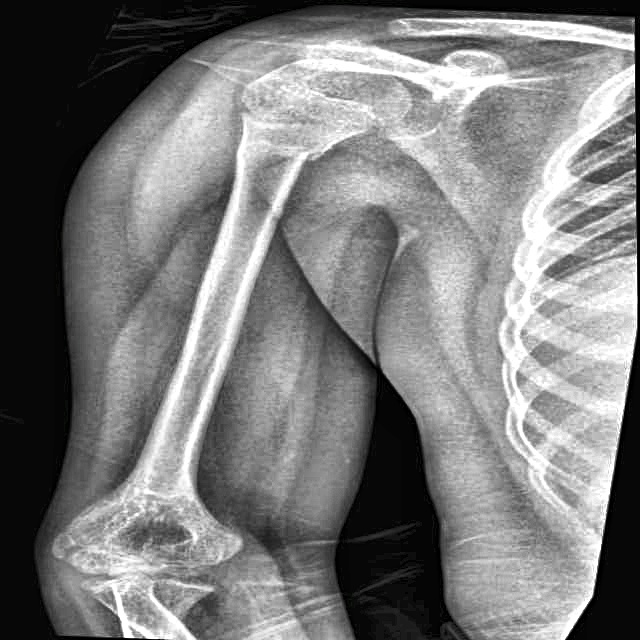Oblique Displaced: (219, 131, 340, 225)
